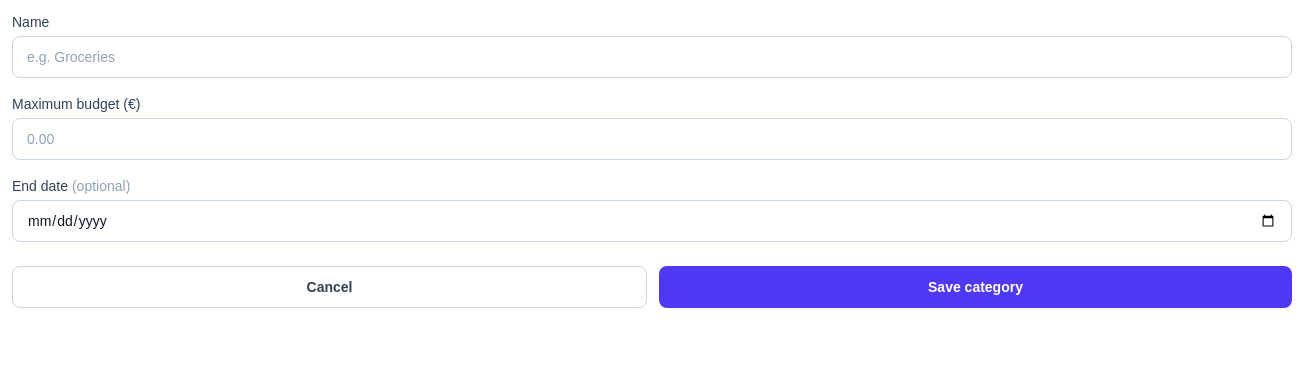
Scenario: CategoryForm › shows a validation error and does not submit when name is empty
Type "50" into the number field labelled "Maximum budget (€)" at (652, 139), box top-left (12, 118), bottom-right (1292, 160)
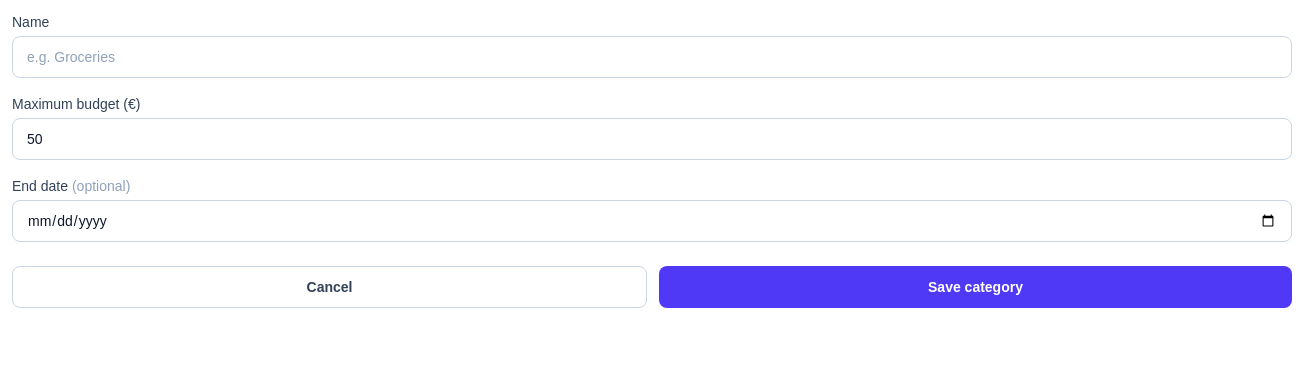
Submit the form
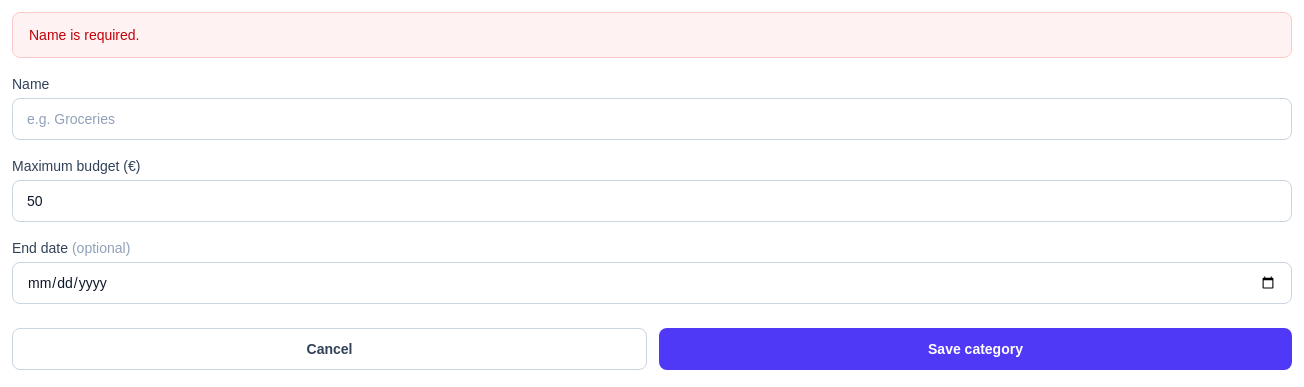
Check: the text "Name is required." is shown, box top-left (12, 12), bottom-right (1292, 58)
